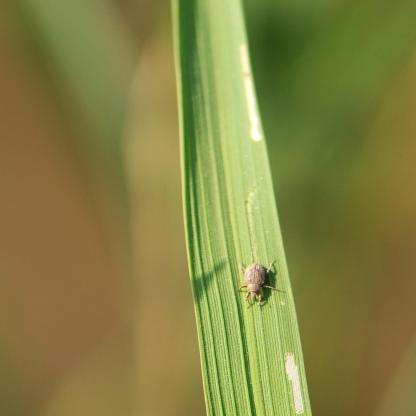rice-bug: (232, 258, 283, 308)
